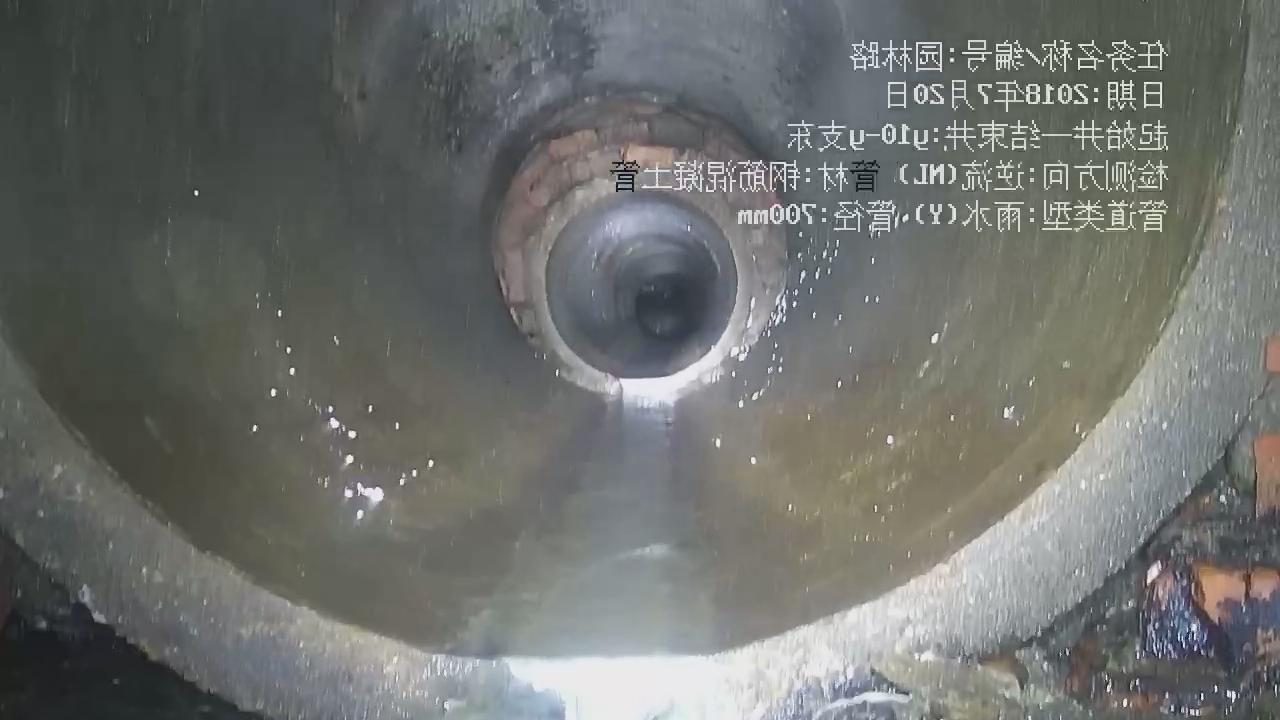CQBG: (492, 95, 791, 385)
